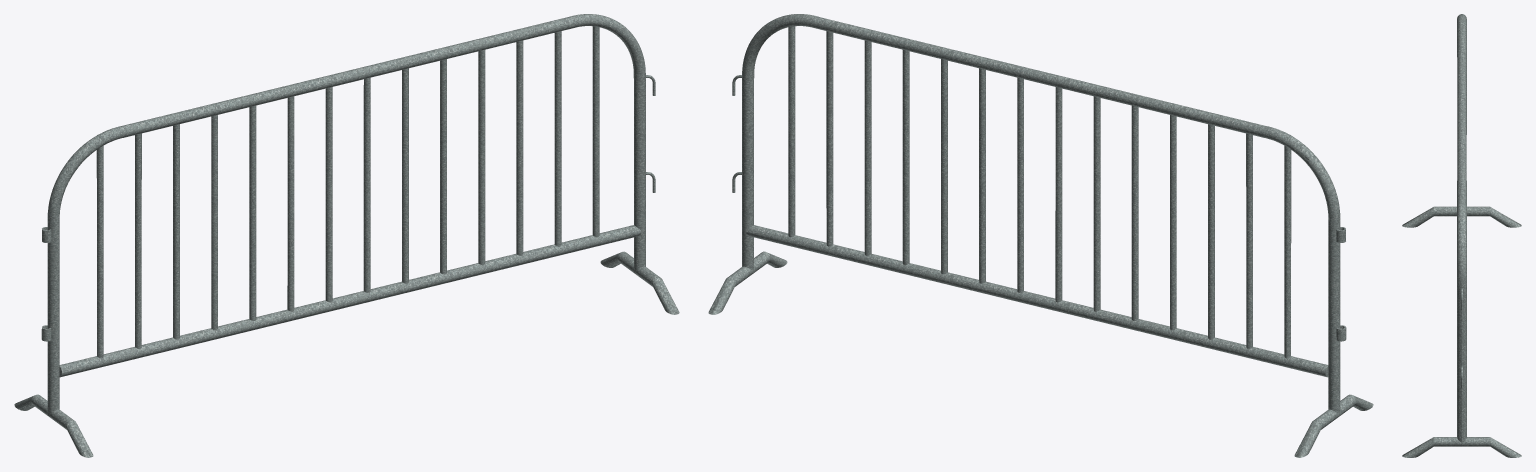
File: Fence 7.FBX
3 views of the same model, side by side, from view 1: azimuth 30°, elevation 25°; view 2: azimuth 150°, elevation 25°; view 3: azimuth 270°, elevation 25° (orthographic). The views are drawn at different scales.
Visible parts, largest first — view 1: fence 7; view 2: fence 7; view 3: fence 7.
Part boxes in pixels (x1=…): fence 7: x1=14, y1=14, x2=679, y2=457; fence 7: x1=708, y1=14, x2=1373, y2=457; fence 7: x1=1402, y1=14, x2=1521, y2=457.
Size of the model in its own units: 213 by 95.53 by 44.68.
1 material, 1 textured.
